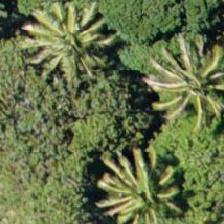coconut_tree: (24, 6, 114, 96), (93, 142, 183, 223), (155, 48, 223, 138)
